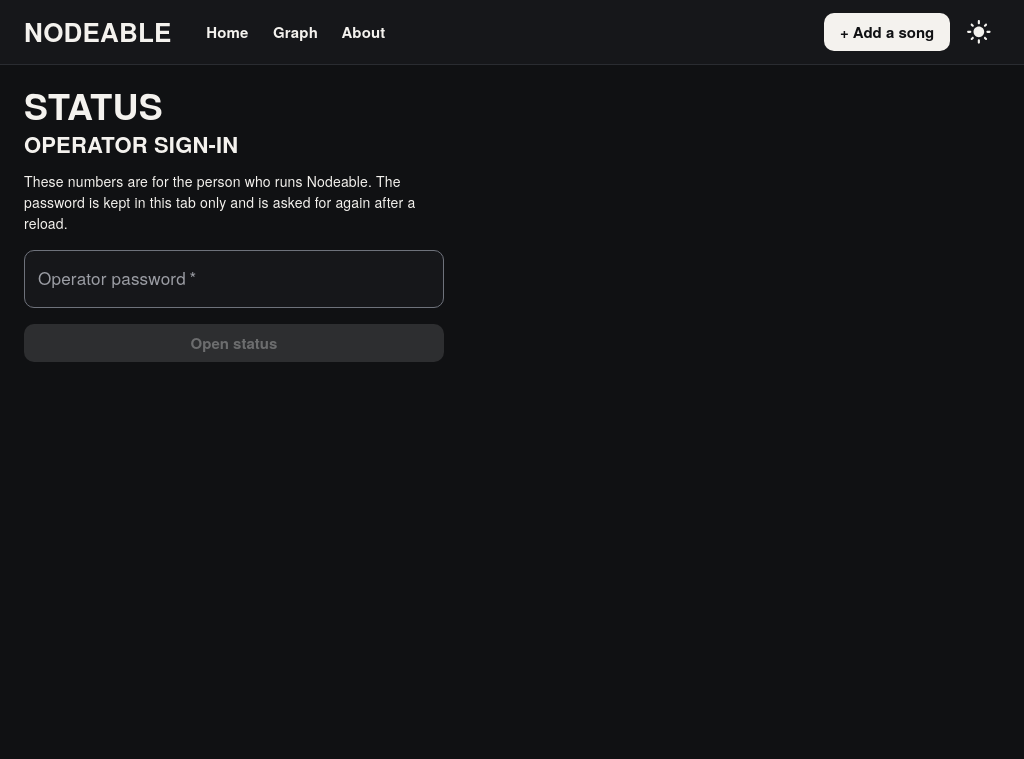
it: the status page (NFR-OBS-03) › NFR_A11Y_01 each panel can be read as a table with the same numbers and gaps said as not measured
In the password field labelled "Operator password *": (234,279) [24, 250, 444, 308], type "correct horse battery staple"
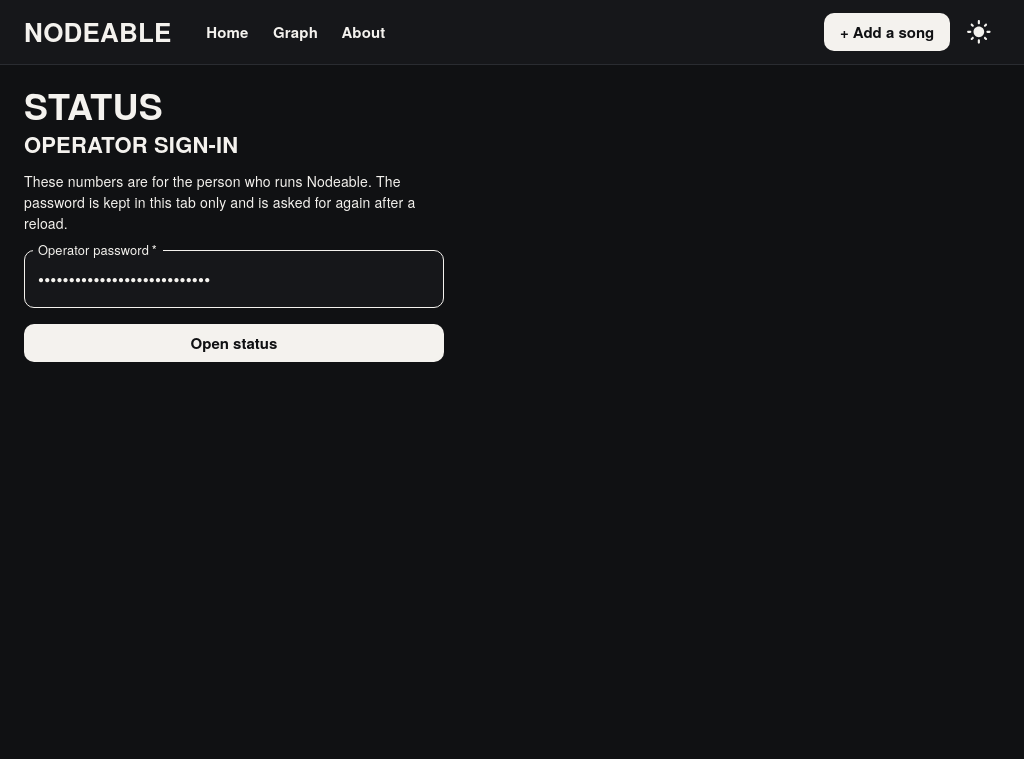
Click the button "Open status": (234,343) [24, 324, 444, 362]
(page scrolled)
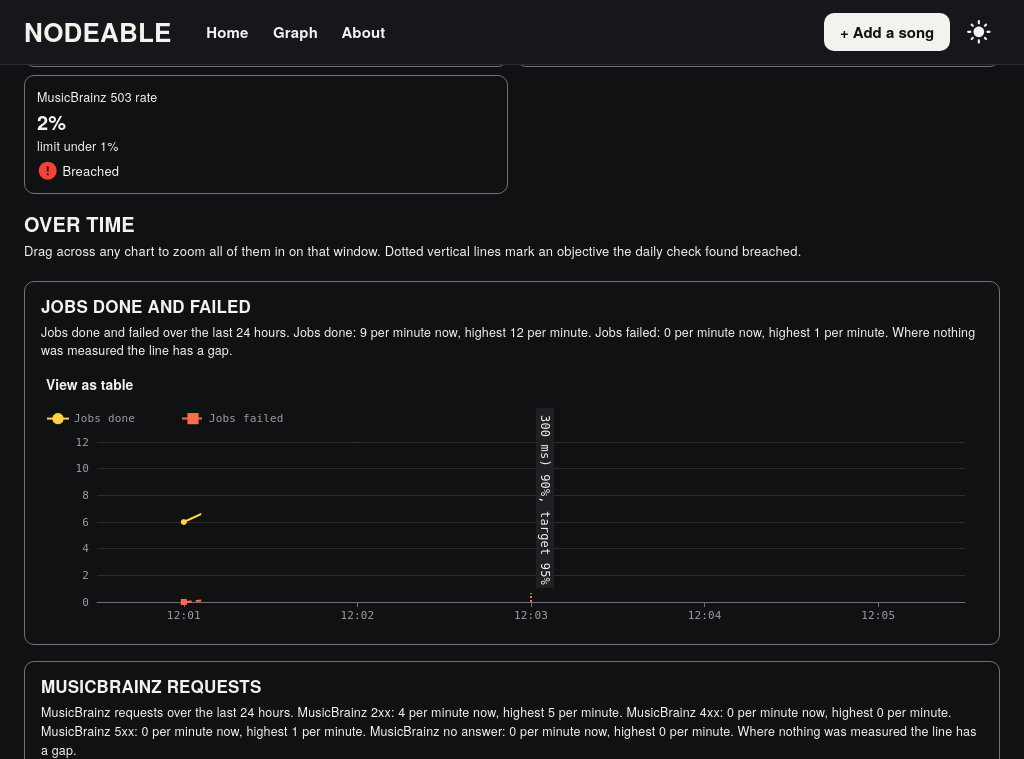
Click the 1st button "View as table": (90,384) [41, 368, 138, 400]
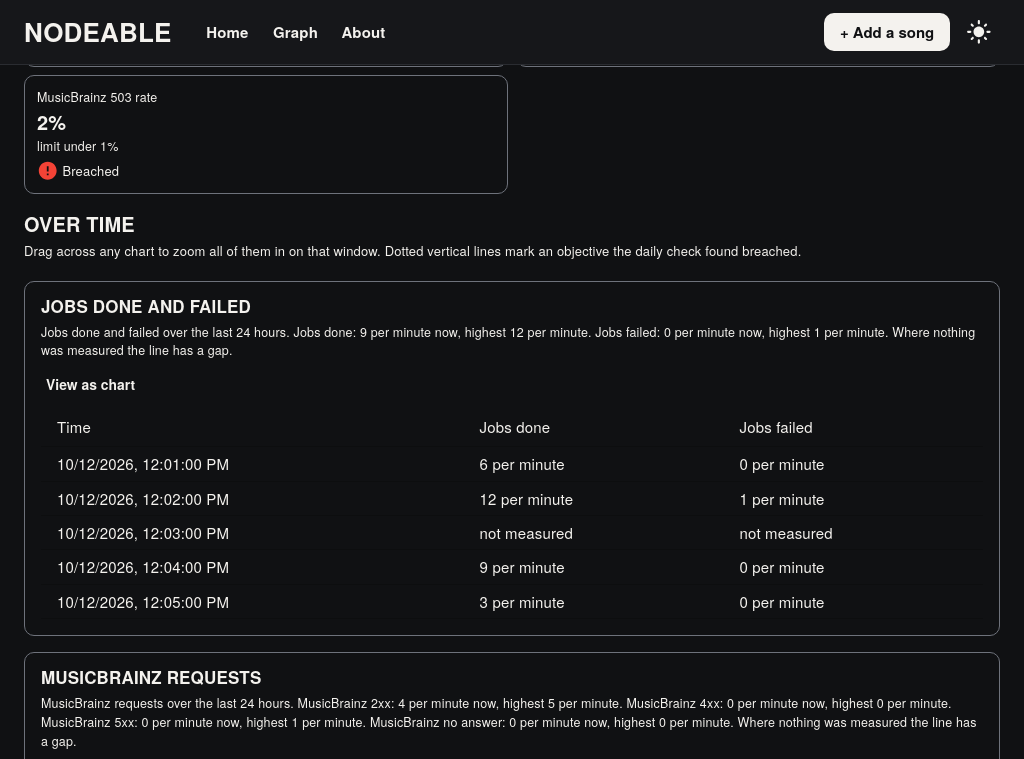
Expected: the number of rows is 6, [41, 408, 983, 447]; [41, 447, 983, 482]; [41, 482, 983, 516]; [41, 516, 983, 550]; [41, 550, 983, 585]; [41, 585, 983, 619]
Expected: the 1st text "not measured" is shown, [464, 516, 724, 550]
Expected: the text "12 per minute" is shown, [464, 482, 724, 516]
